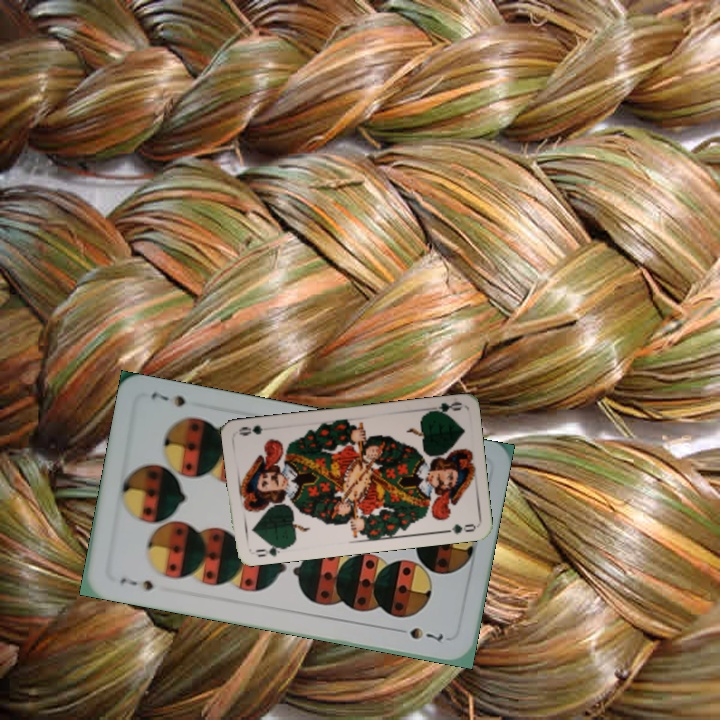GO: (422, 397, 463, 418), (251, 540, 289, 559)
S7: (116, 573, 156, 594)
